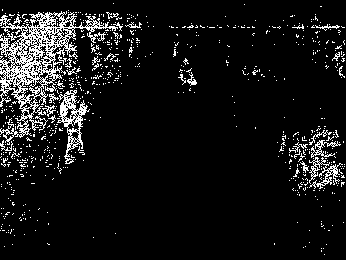person: (58, 89, 87, 161)
